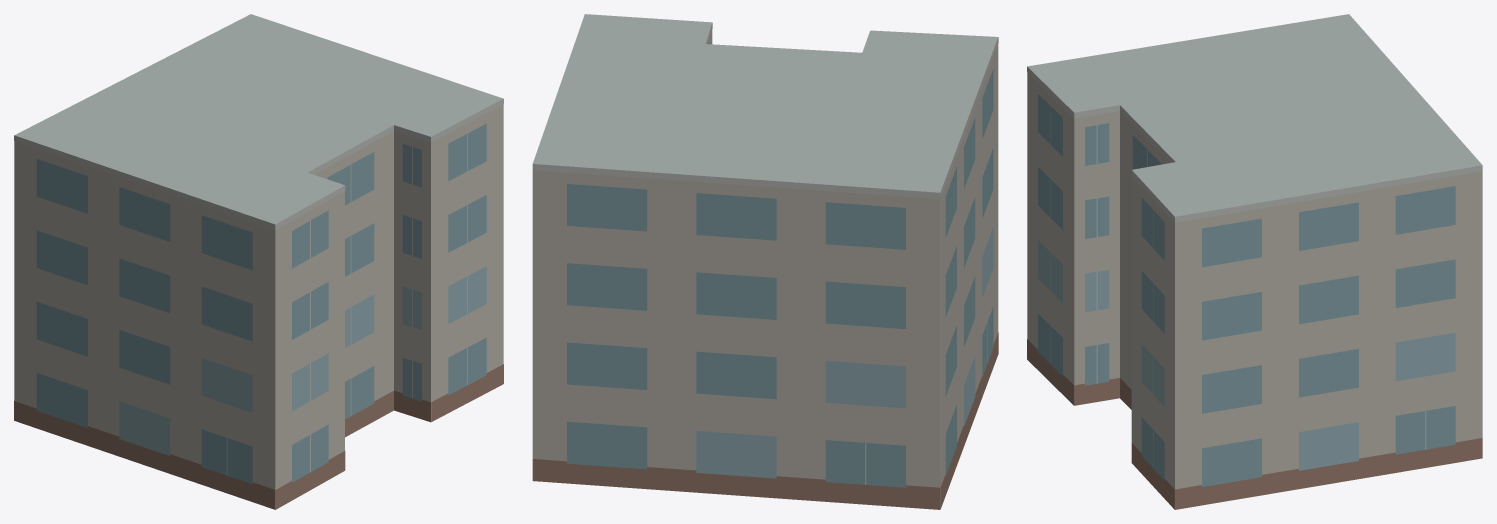
Rendered from survey-upis-32586447.glb.
3 renders of one model, left to right at view 1: azimuth 30°, elevation 25°; view 2: azimuth 150°, elevation 25°; view 3: azimuth 270°, elevation 25°, orthographic. The views are drawn at different scales.
Visible parts, largest first — view 1: survey-upis-32586447.tmp; view 2: survey-upis-32586447.tmp; view 3: survey-upis-32586447.tmp.
Boxes of the visible parts, <box> form: survey-upis-32586447.tmp: <box>14,14,503,509</box>; survey-upis-32586447.tmp: <box>532,14,998,509</box>; survey-upis-32586447.tmp: <box>1027,14,1482,509</box>.
Bounding box in the file's own units: 18.12 × 12.2 × 17.2.
